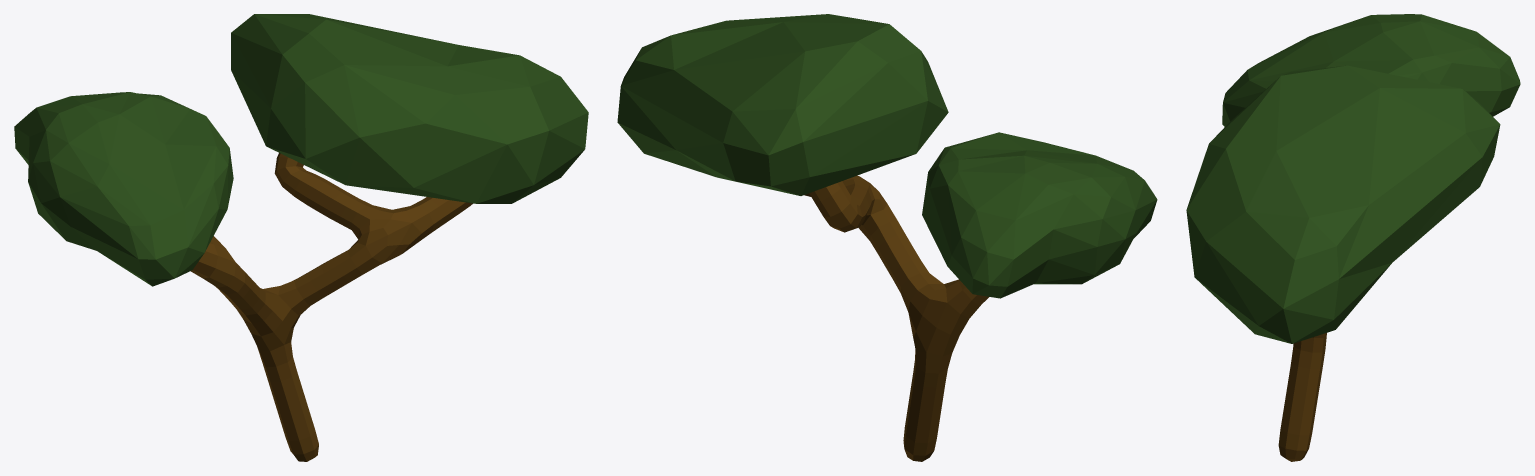
Rendered from TREE2_F.fbx.
The picture shows the model from 3 angles, left to right: view 1: azimuth 30°, elevation 25°; view 2: azimuth 150°, elevation 25°; view 3: azimuth 270°, elevation 25°; orthographic projection. The views are drawn at different scales.
Visible parts, largest first — view 1: Tree_2; view 2: Tree_2; view 3: Tree_2.
Boxes of the visible parts, box(x1,y1,x2,y2) form: Tree_2: box(14, 14, 588, 461); Tree_2: box(617, 14, 1157, 461); Tree_2: box(1186, 14, 1520, 461).
Bounding box in the file's own units: 6694 × 5060 × 3736.
Materials: 1 (1 with a texture image).
